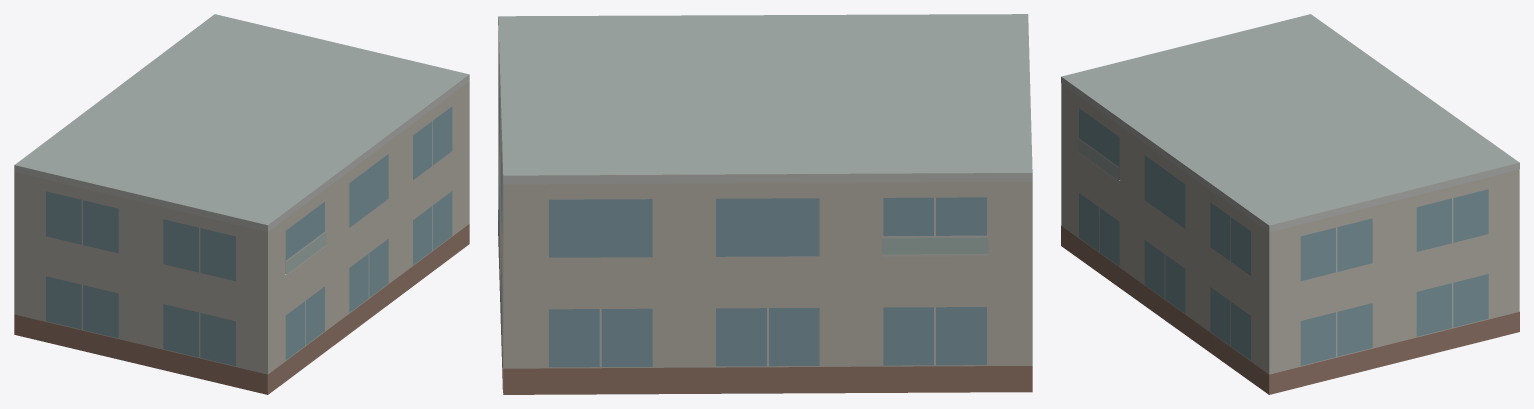
Rendered from survey-upis-32684301.glb.
3 views of the same model, side by side, from view 1: azimuth 30°, elevation 25°; view 2: azimuth 150°, elevation 25°; view 3: azimuth 270°, elevation 25° (orthographic). The views are drawn at different scales.
Visible parts, largest first — view 1: survey-upis-32684301.tmp; view 2: survey-upis-32684301.tmp; view 3: survey-upis-32684301.tmp.
Part boxes in pixels (x1=…): survey-upis-32684301.tmp: x1=14, y1=14, x2=469, y2=394; survey-upis-32684301.tmp: x1=498, y1=14, x2=1032, y2=394; survey-upis-32684301.tmp: x1=1061, y1=14, x2=1519, y2=394.
Size of the model in its own units: 16.35 by 6.1 by 14.98.
